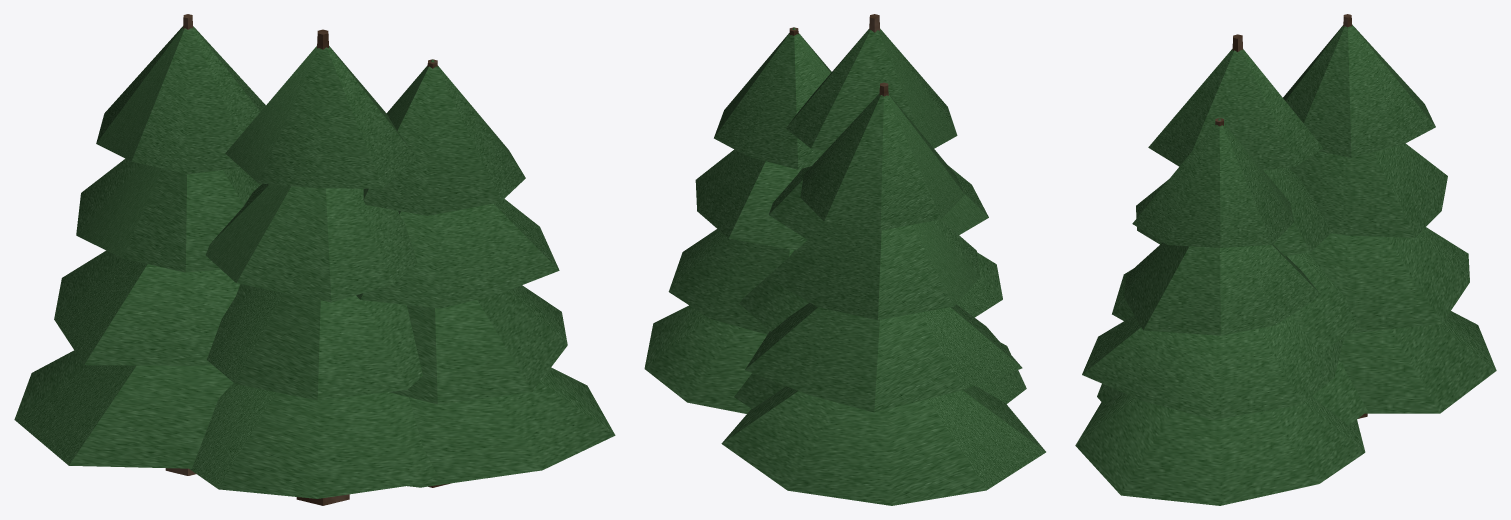
File: resource_lumber_1.glb
3 renders of one model, left to right at view 1: azimuth 30°, elevation 25°; view 2: azimuth 150°, elevation 25°; view 3: azimuth 270°, elevation 25°, orthographic. The views are drawn at different scales.
Parts seen in each view (by area): view 1: resource_lumber_1; view 2: resource_lumber_1; view 3: resource_lumber_1.
Boxes of the visible parts, x1,y1,x2,y2 form: resource_lumber_1: [14, 14, 615, 505]; resource_lumber_1: [644, 14, 1045, 505]; resource_lumber_1: [1075, 14, 1496, 505].
Bounding box in the file's own units: 6.16 × 5.69 × 5.35.
Materials: 2 (2 with a texture image).
